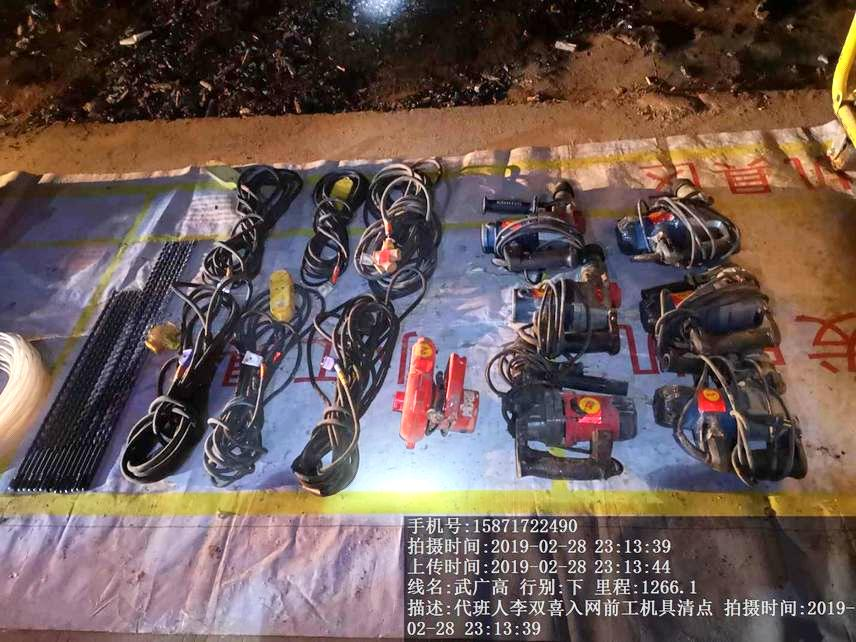DX: (287, 287, 416, 496), (358, 150, 453, 295), (199, 161, 304, 284), (300, 165, 361, 284)
DZ: (644, 362, 813, 487), (500, 364, 642, 488), (637, 272, 789, 363), (492, 254, 622, 359), (471, 166, 593, 269), (611, 181, 746, 272)
